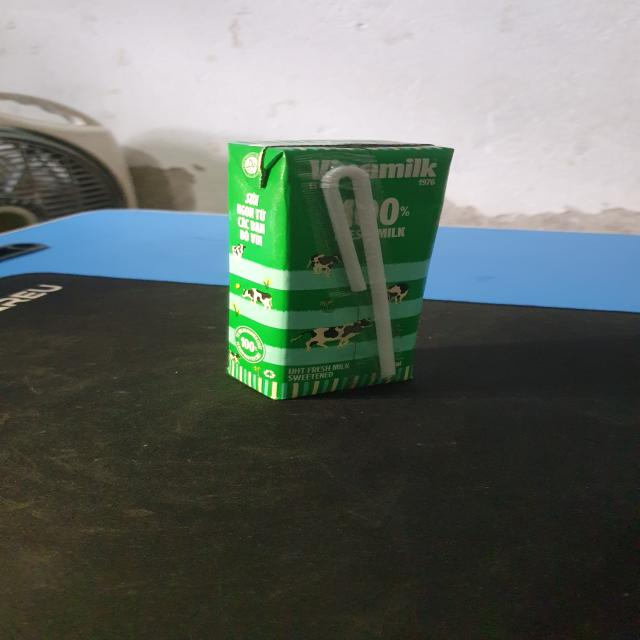Vina: (224, 138, 460, 404)
